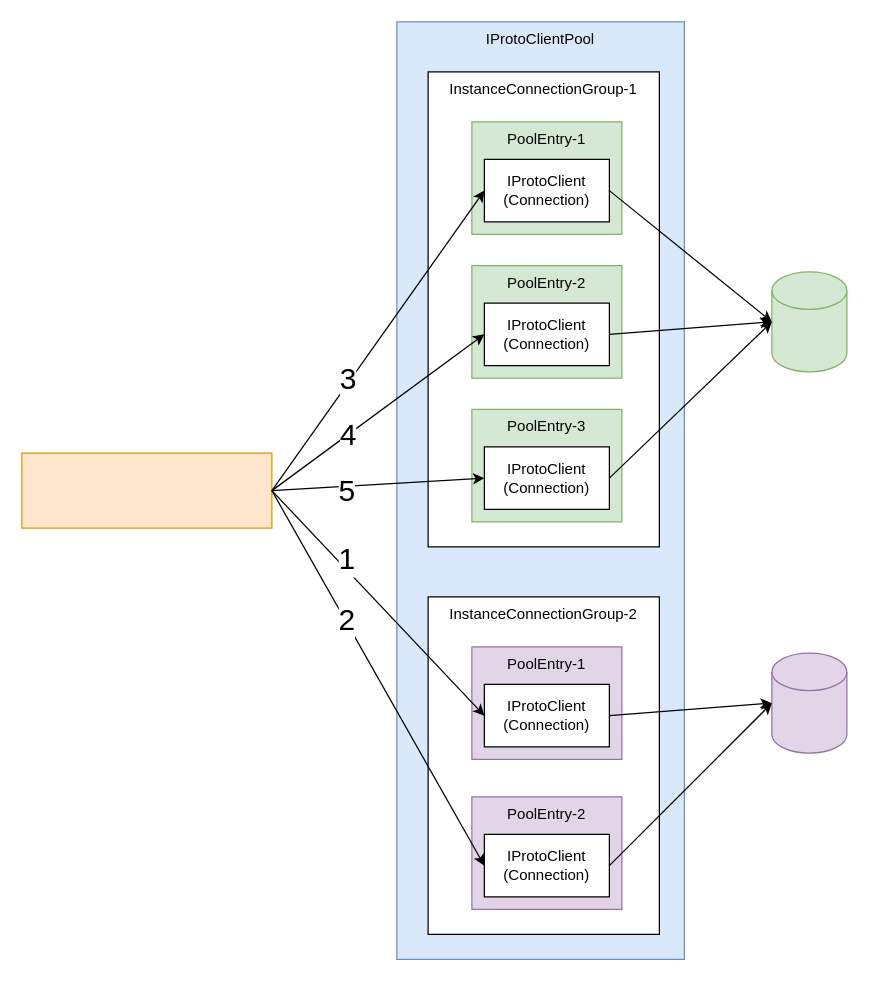
This 869x981 diagram has some shape labels left out. The shapes that lost their labels are listed below. From the top down, each one's centre as x and y in pixels, then its label:
the point at 809,321: Node-1
the point at 146,490: TarantoolRoundRobinBalancer
the point at 809,702: Node-2
